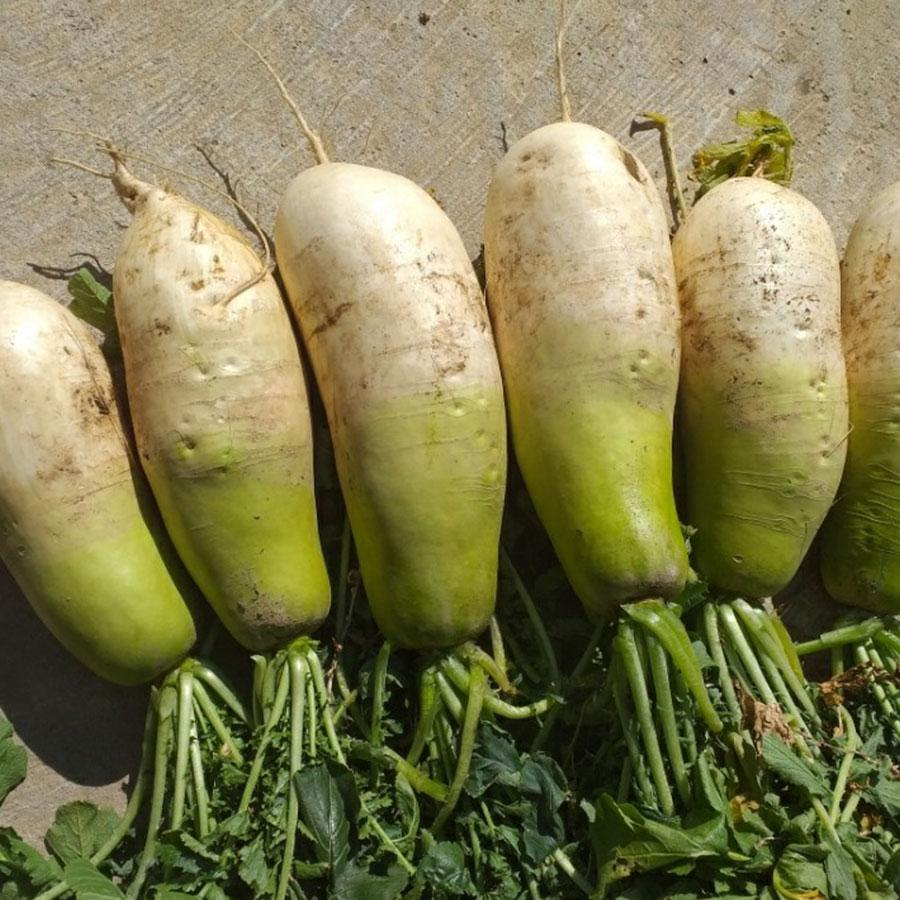radish: (429, 248, 719, 900), (188, 276, 430, 900), (707, 200, 900, 900)
